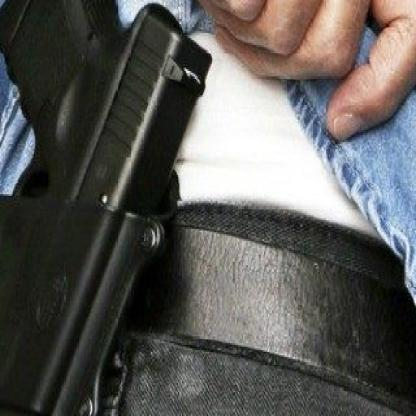gun: (0, 0, 222, 415)
